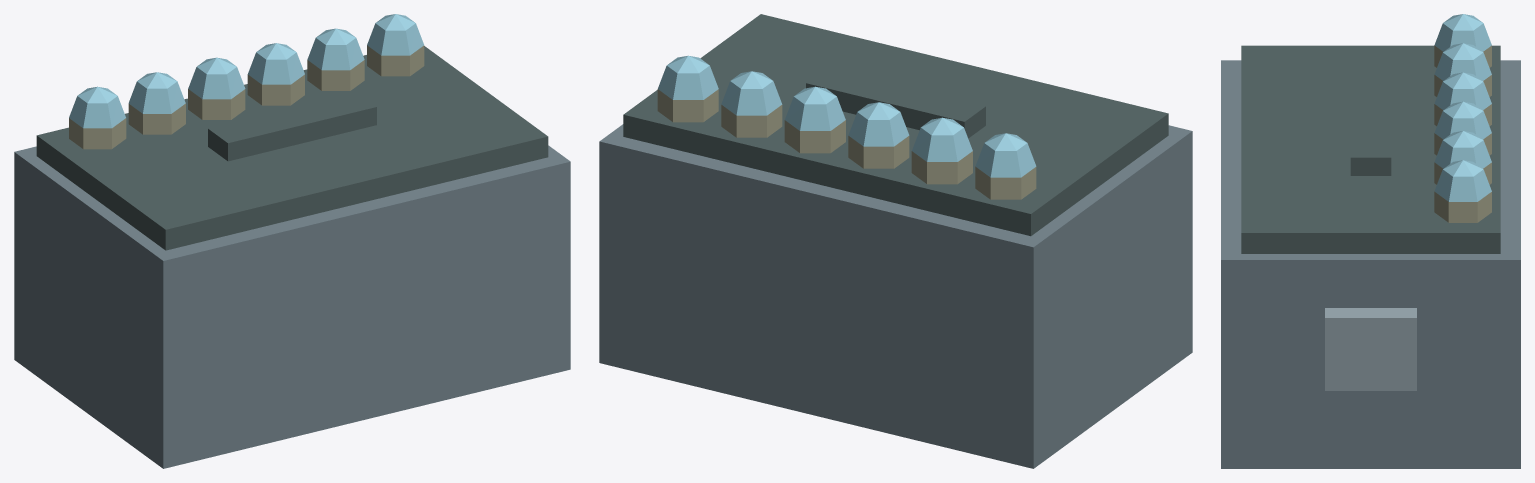
Rendered from ce_ammo_grenade_emp_c.obj.
3 views of the same model, side by side, from view 1: azimuth 30°, elevation 25°; view 2: azimuth 150°, elevation 25°; view 3: azimuth 270°, elevation 25° (orthographic). The views are drawn at different scales.
Parts seen in each view (by area): view 1: ce_ammo_grenade_emp_c_0, ce_ammo_grenade_emp_c_1, ce_ammo_grenade_emp_c_2, ce_ammo_grenade_emp_c_17, ce_ammo_grenade_emp_c_5, ce_ammo_grenade_emp_c_11, ce_ammo_grenade_emp_c_14, ce_ammo_grenade_emp_c_20, ce_ammo_grenade_emp_c_8, ce_ammo_grenade_emp_c_13, ce_ammo_grenade_emp_c_19, ce_ammo_grenade_emp_c_4 (+3 smaller); view 2: ce_ammo_grenade_emp_c_0, ce_ammo_grenade_emp_c_1, ce_ammo_grenade_emp_c_2, ce_ammo_grenade_emp_c_11, ce_ammo_grenade_emp_c_17, ce_ammo_grenade_emp_c_5, ce_ammo_grenade_emp_c_20, ce_ammo_grenade_emp_c_14, ce_ammo_grenade_emp_c_8, ce_ammo_grenade_emp_c_4, ce_ammo_grenade_emp_c_7, ce_ammo_grenade_emp_c_13 (+3 smaller); view 3: ce_ammo_grenade_emp_c_0, ce_ammo_grenade_emp_c_1, ce_ammo_grenade_emp_c_3, ce_ammo_grenade_emp_c_2, ce_ammo_grenade_emp_c_20, ce_ammo_grenade_emp_c_19, ce_ammo_grenade_emp_c_5, ce_ammo_grenade_emp_c_17, ce_ammo_grenade_emp_c_14, ce_ammo_grenade_emp_c_11, ce_ammo_grenade_emp_c_8, ce_ammo_grenade_emp_c_15 (+5 smaller).
Part boxes in pixels (left/top/right/bottom): ce_ammo_grenade_emp_c_0: left=14, top=145, right=570, bottom=468; ce_ammo_grenade_emp_c_1: left=36, top=46, right=548, bottom=250; ce_ammo_grenade_emp_c_2: left=208, top=92, right=376, bottom=161; ce_ammo_grenade_emp_c_17: left=307, top=38, right=364, bottom=70; ce_ammo_grenade_emp_c_5: left=69, top=96, right=125, bottom=128; ce_ammo_grenade_emp_c_11: left=188, top=67, right=245, bottom=99; ce_ammo_grenade_emp_c_14: left=248, top=52, right=304, bottom=84; ce_ammo_grenade_emp_c_20: left=367, top=23, right=423, bottom=55; ce_ammo_grenade_emp_c_8: left=128, top=81, right=185, bottom=113; ce_ammo_grenade_emp_c_13: left=247, top=74, right=304, bottom=105; ce_ammo_grenade_emp_c_19: left=367, top=45, right=424, bottom=76; ce_ammo_grenade_emp_c_4: left=69, top=118, right=126, bottom=149; ce_ammo_grenade_emp_c_0: left=599, top=124, right=1192, bottom=468; ce_ammo_grenade_emp_c_1: left=623, top=14, right=1168, bottom=236; ce_ammo_grenade_emp_c_2: left=806, top=67, right=985, bottom=138; ce_ammo_grenade_emp_c_11: left=848, top=112, right=909, bottom=146; ce_ammo_grenade_emp_c_17: left=721, top=81, right=782, bottom=115; ce_ammo_grenade_emp_c_5: left=975, top=143, right=1036, bottom=177; ce_ammo_grenade_emp_c_20: left=658, top=65, right=718, bottom=99; ce_ammo_grenade_emp_c_14: left=785, top=96, right=845, bottom=130; ce_ammo_grenade_emp_c_8: left=912, top=128, right=972, bottom=161; ce_ammo_grenade_emp_c_4: left=975, top=166, right=1036, bottom=199; ce_ammo_grenade_emp_c_7: left=911, top=151, right=972, bottom=184; ce_ammo_grenade_emp_c_13: left=784, top=120, right=845, bottom=153; ce_ammo_grenade_emp_c_0: left=1221, top=60, right=1520, bottom=468; ce_ammo_grenade_emp_c_1: left=1241, top=45, right=1500, bottom=253; ce_ammo_grenade_emp_c_3: left=1325, top=308, right=1416, bottom=390; ce_ammo_grenade_emp_c_2: left=1350, top=84, right=1391, bottom=175; ce_ammo_grenade_emp_c_20: left=1434, top=169, right=1491, bottom=201; ce_ammo_grenade_emp_c_19: left=1434, top=191, right=1491, bottom=222; ce_ammo_grenade_emp_c_5: left=1434, top=23, right=1491, bottom=51; ce_ammo_grenade_emp_c_17: left=1434, top=140, right=1491, bottom=168; ce_ammo_grenade_emp_c_14: left=1434, top=111, right=1491, bottom=139; ce_ammo_grenade_emp_c_11: left=1434, top=82, right=1491, bottom=110; ce_ammo_grenade_emp_c_8: left=1434, top=52, right=1491, bottom=80; ce_ammo_grenade_emp_c_15: left=1443, top=101, right=1483, bottom=118.
Size of the model in its own units: 0.86 by 0.54 by 0.52.
